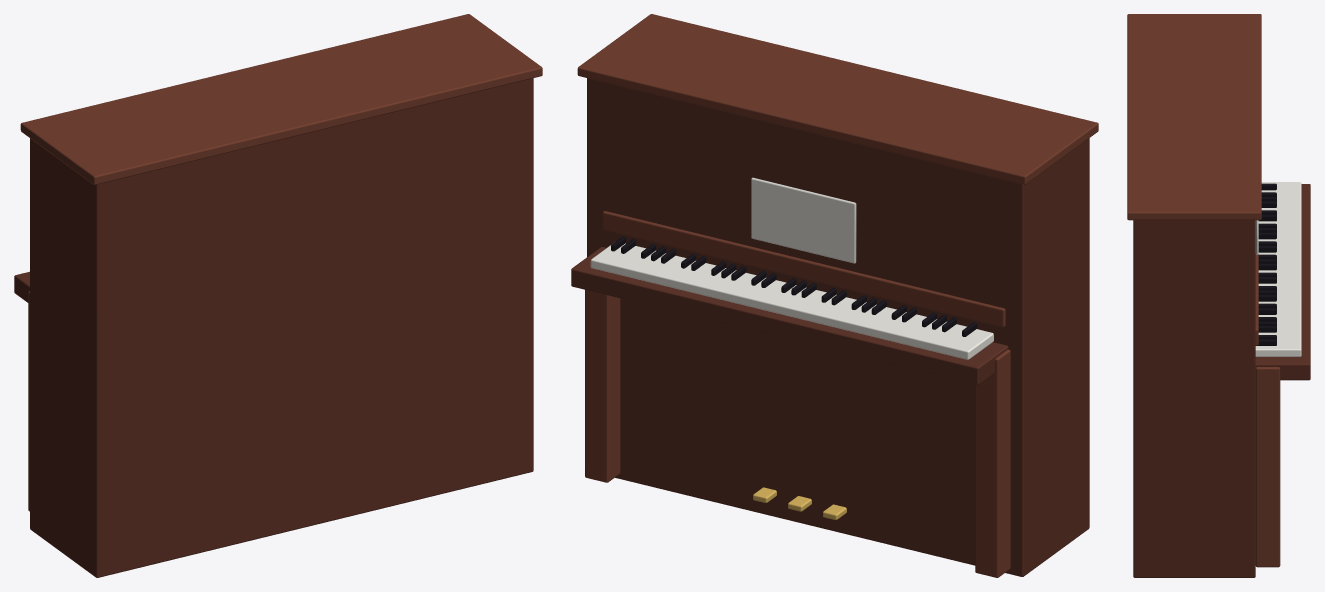
Rendered from SM_PRP_PianoArmario.fbx.
3 views of the same model, side by side, from view 1: azimuth 30°, elevation 25°; view 2: azimuth 150°, elevation 25°; view 3: azimuth 270°, elevation 25° (orthographic). The views are drawn at different scales.
Visible parts, largest first — view 1: SM_PRP_PianoArmario; view 2: SM_PRP_PianoArmario; view 3: SM_PRP_PianoArmario.
Boxes of the visible parts, box(x1,y1,x2,y2) form: SM_PRP_PianoArmario: box(14, 14, 542, 577); SM_PRP_PianoArmario: box(571, 14, 1098, 577); SM_PRP_PianoArmario: box(1127, 14, 1310, 577).
Bounding box in the file's own units: 1.54 × 1.33 × 0.6.
